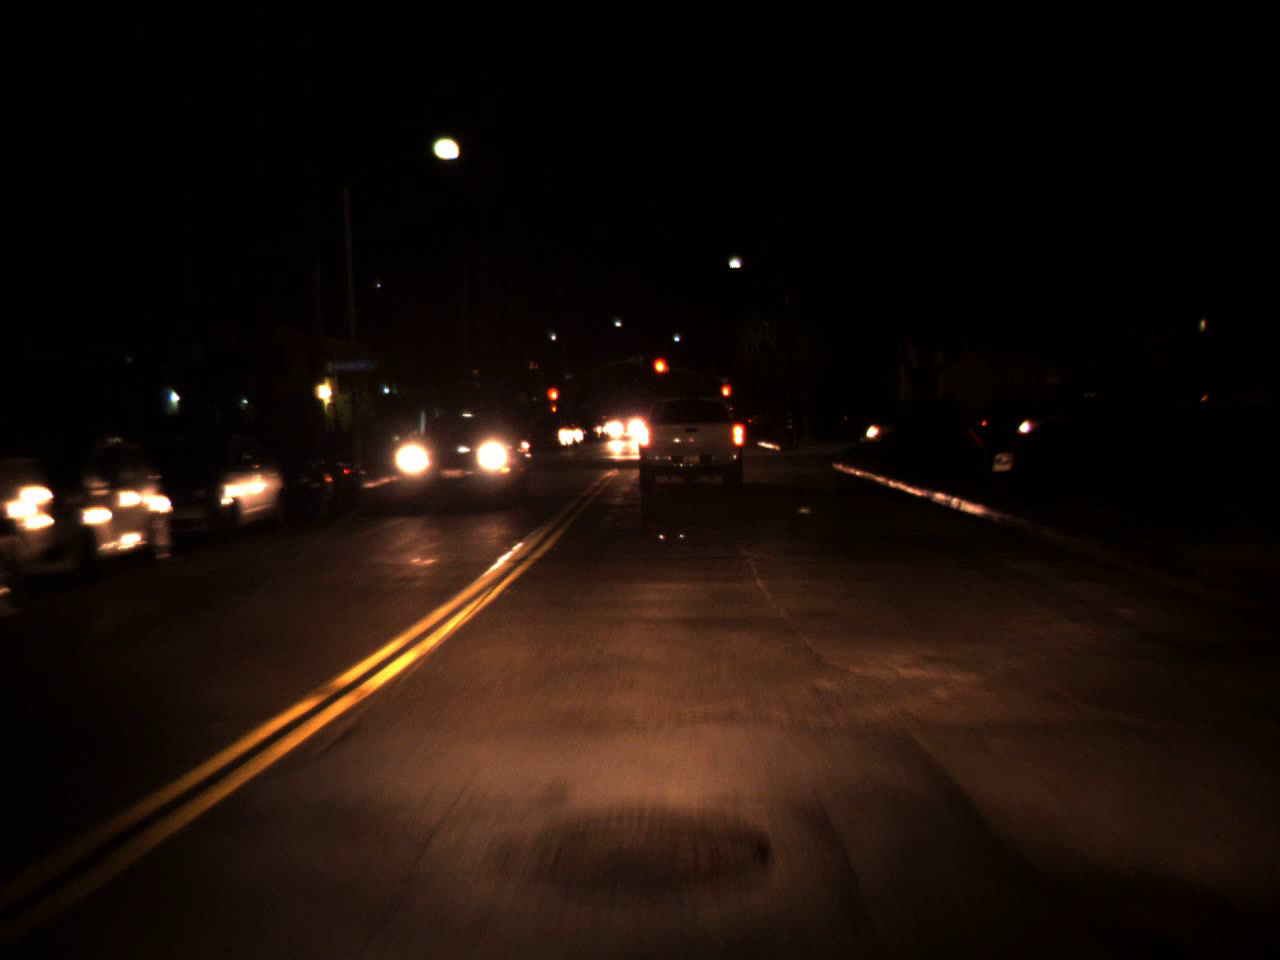stop: (650, 355, 669, 390), (545, 385, 560, 417), (721, 384, 730, 408)
